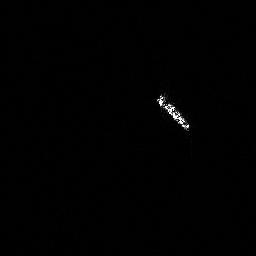ship: (152, 90, 194, 135)
